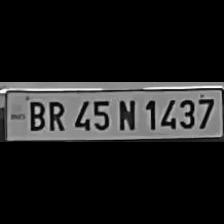1: (139, 97, 157, 131)
3: (176, 96, 194, 128)
4: (69, 97, 91, 131), (157, 96, 175, 128)
5: (90, 97, 110, 131)
7: (196, 96, 214, 128)
B: (24, 97, 46, 130)
N: (113, 96, 137, 132)
R: (44, 98, 66, 132)
